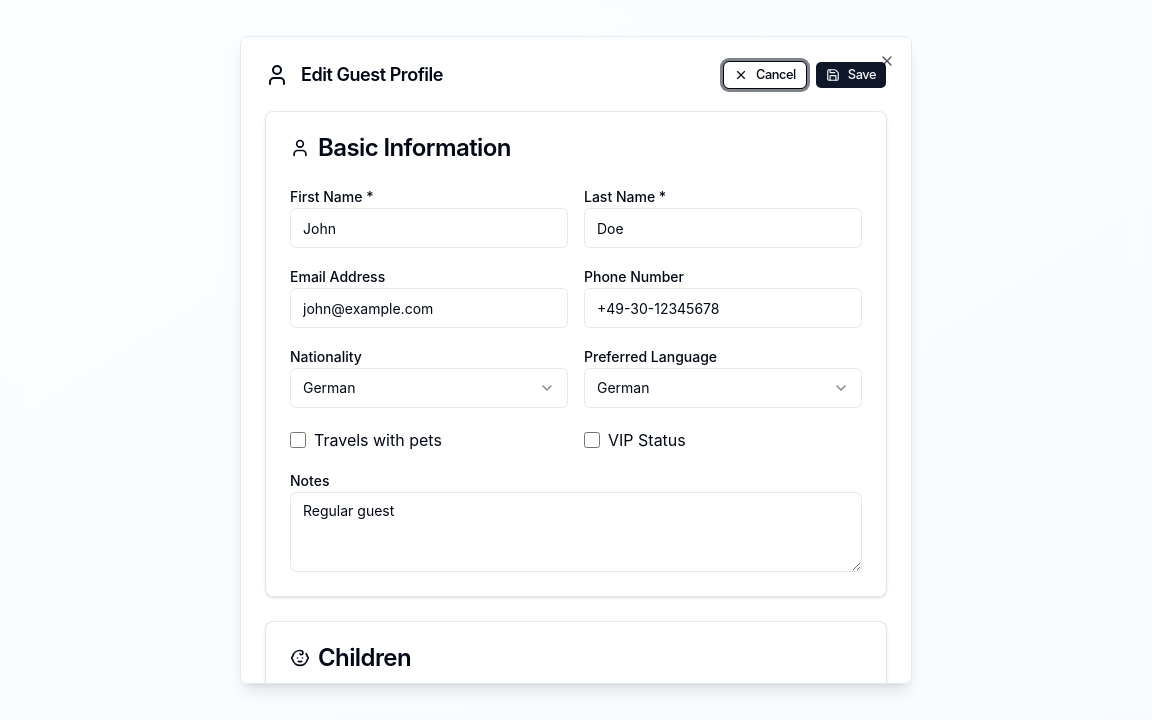
Test: GuestProfileModal › edit mode › allows editing nationality via dropdown
The image size is (1152, 720).
What coordinates should you click on to do the following:
click the dropdown named "Nationality"
I would click on:
 (329, 388)
Its box is [290,368,568,408].
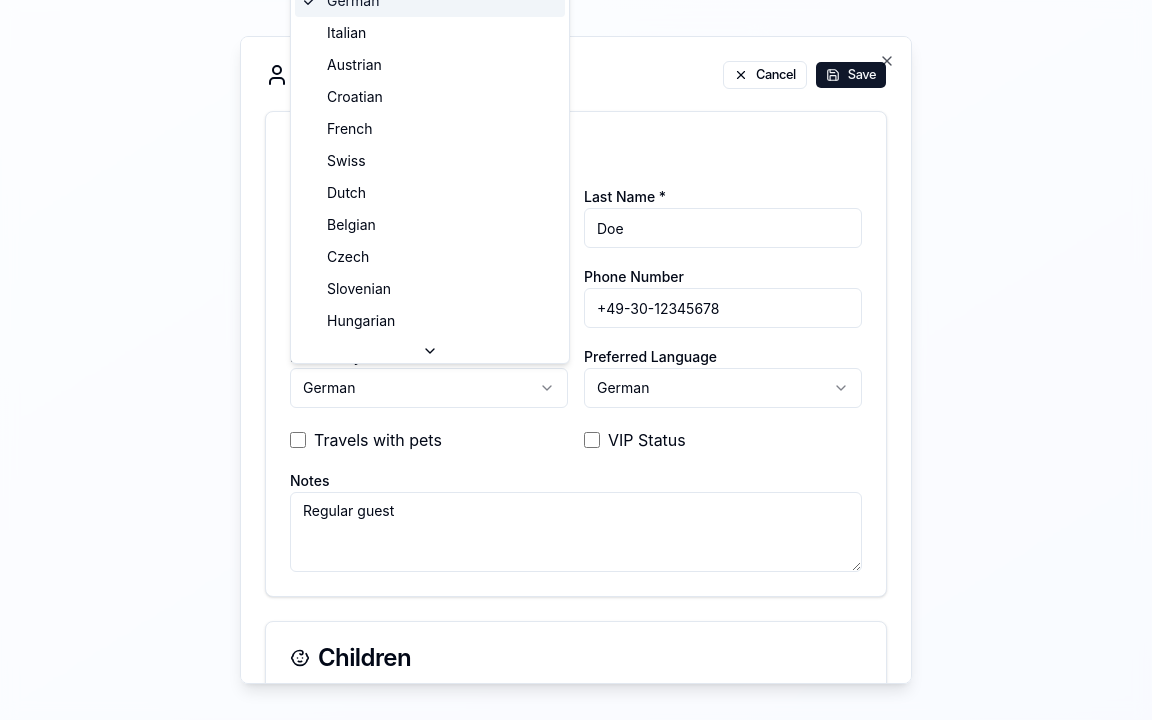
What coordinates should you click on to do the following:
click the option "Austrian"
I would click on:
 (354, 64)
Its box is [327,56,382,73].
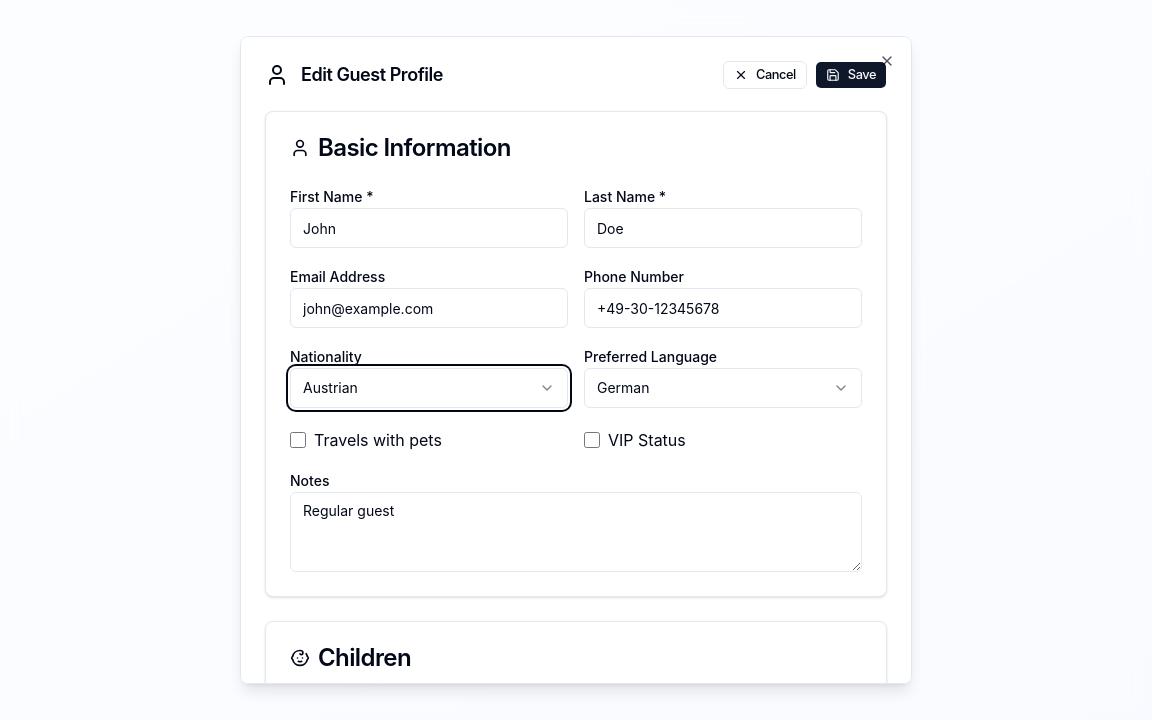
Expected: the dropdown named "Nationality" reads "Austrian", [290,368,568,408]
